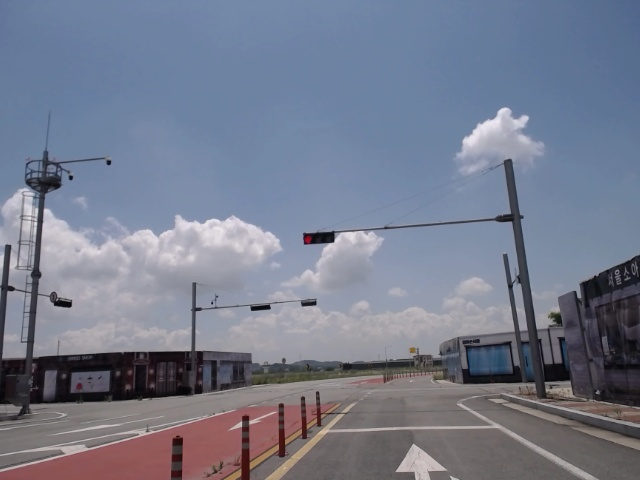red_3: (301, 230, 336, 244)
